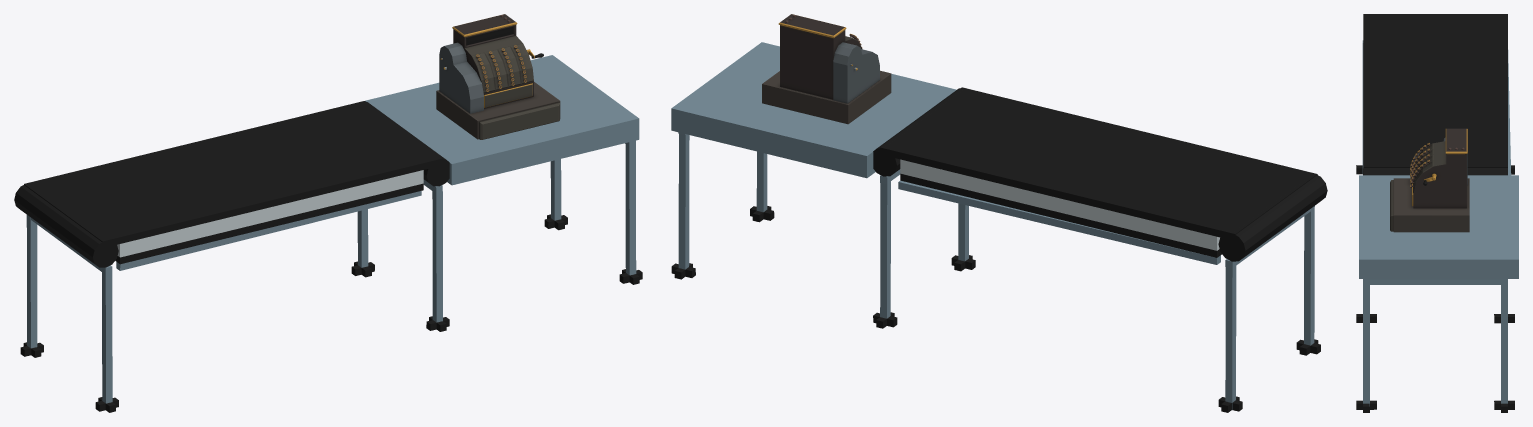
The model's file is checkout_counter.glb.
3 views of the same model, side by side, from view 1: azimuth 30°, elevation 25°; view 2: azimuth 150°, elevation 25°; view 3: azimuth 270°, elevation 25° (orthographic). The views are drawn at different scales.
Visible parts, largest first — view 1: group37982561; view 2: group37982561; view 3: group37982561.
Part boxes in pixels (bbox=[...]): group37982561: bbox=[14, 14, 642, 412]; group37982561: bbox=[671, 14, 1327, 412]; group37982561: bbox=[1356, 14, 1518, 412].
Size of the model in its own units: 0.8479 by 0.3613 by 0.2358.
Materials: 6 (1 with a texture image).
